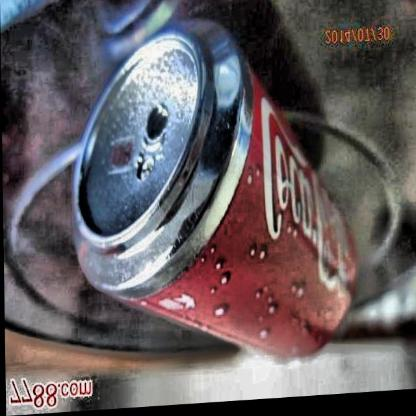Can: (65, 11, 368, 385)
